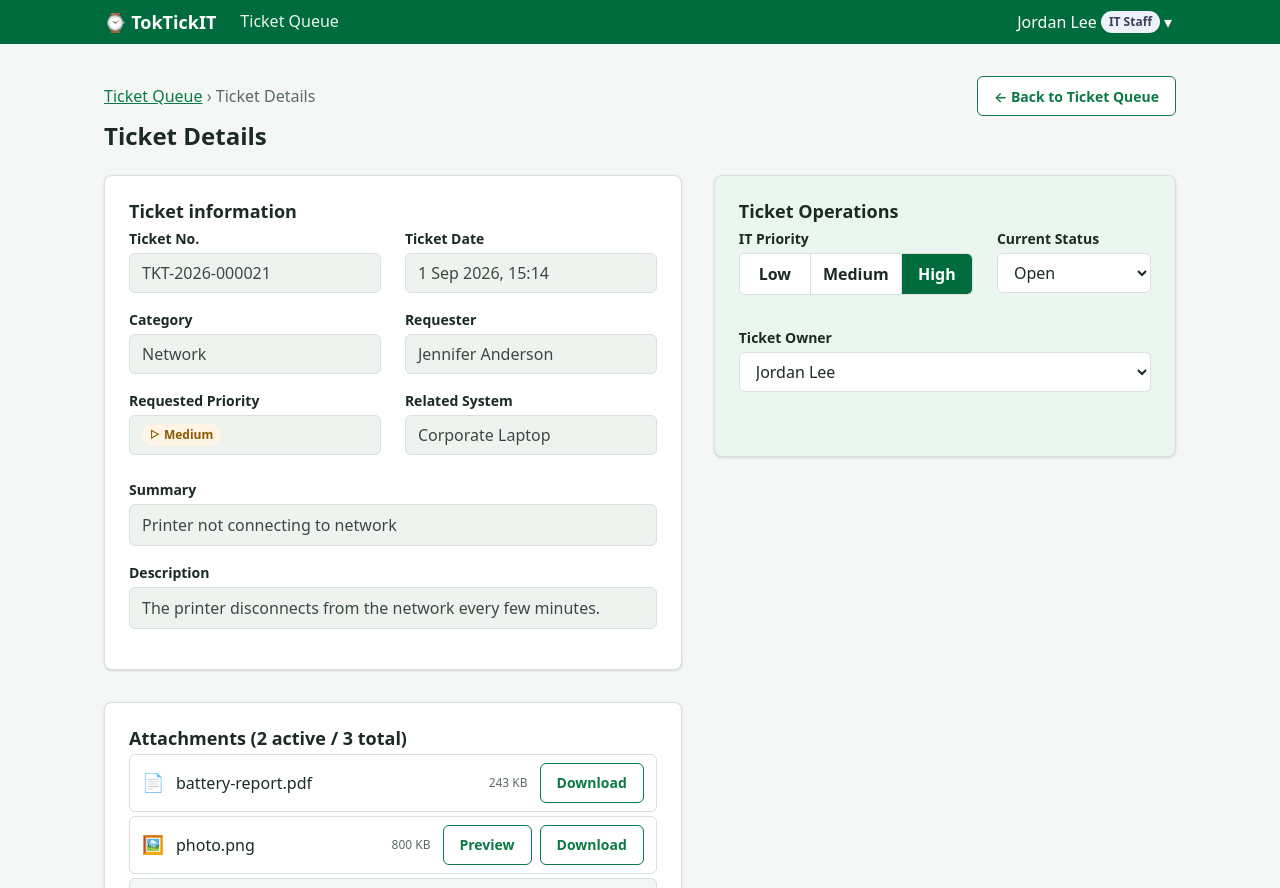
Attachments — read-only (no upload, no remove) › surfaces a download failure without crashing (attachment removed mid-session, 410)
The width and height of the screenshot is (1280, 888).
Expected: the text "TKT-2026-000021" is shown, [129,253,381,293]
Click the button "Download" in the row of "battery-report.pdf" at [592, 783], box [540,763,644,803]
(page scrolled)
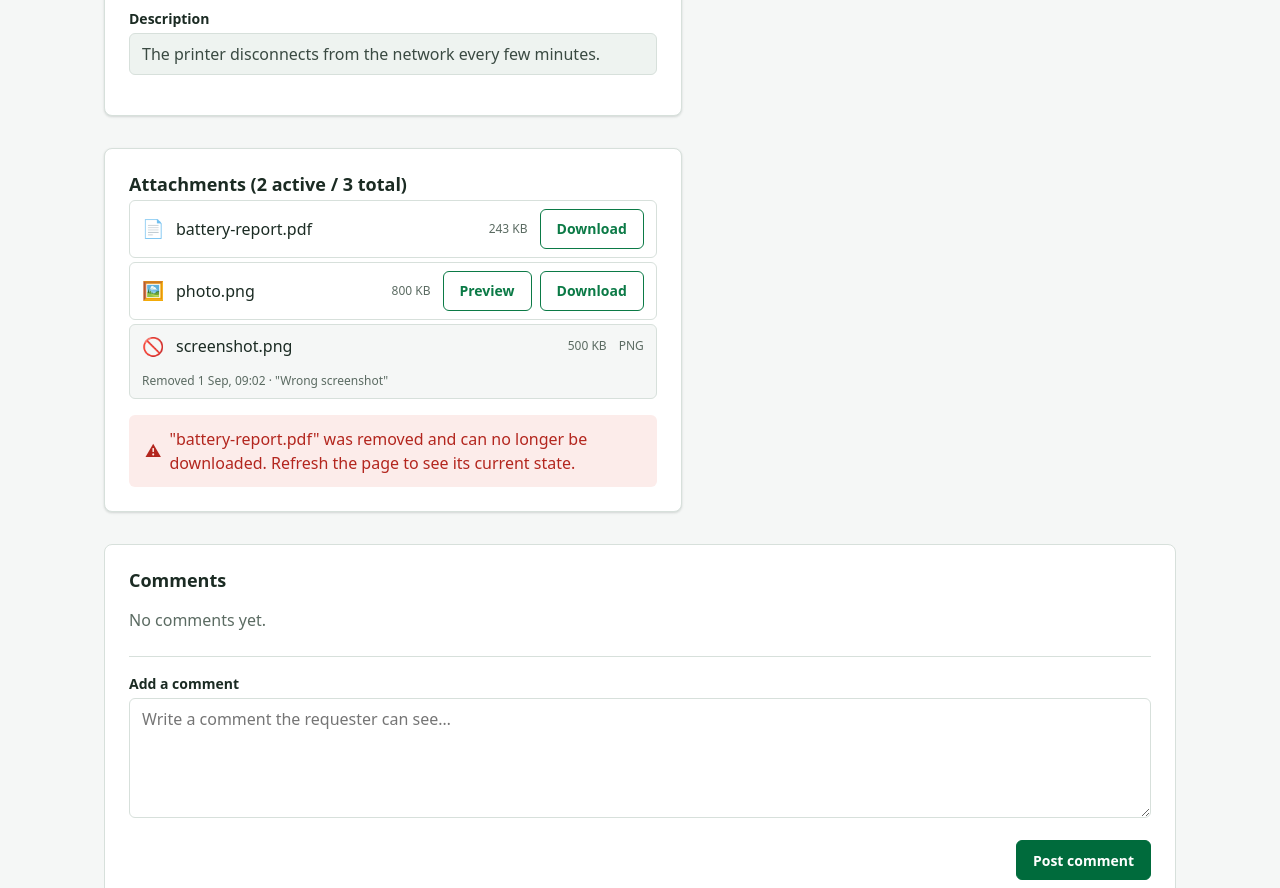
Expected: the message shows "was removed and can no longer be downloaded", [169,428,587,474]
